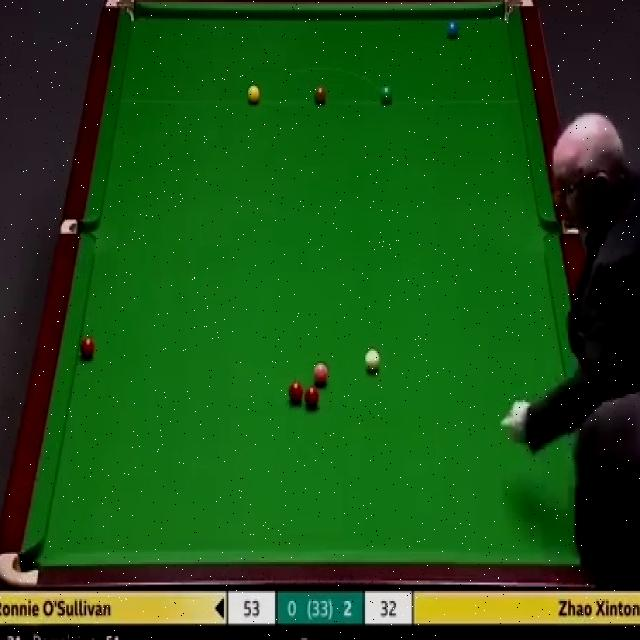blue-ball: (446, 20, 460, 40)
brown-ball: (313, 86, 327, 103)
green-ball: (379, 82, 394, 106)
pink-ball: (312, 362, 329, 386)
red-ball: (306, 385, 320, 412), (80, 336, 96, 359), (288, 380, 303, 402)
white-ball: (364, 348, 382, 375)
yellow-ball: (246, 83, 261, 104)
